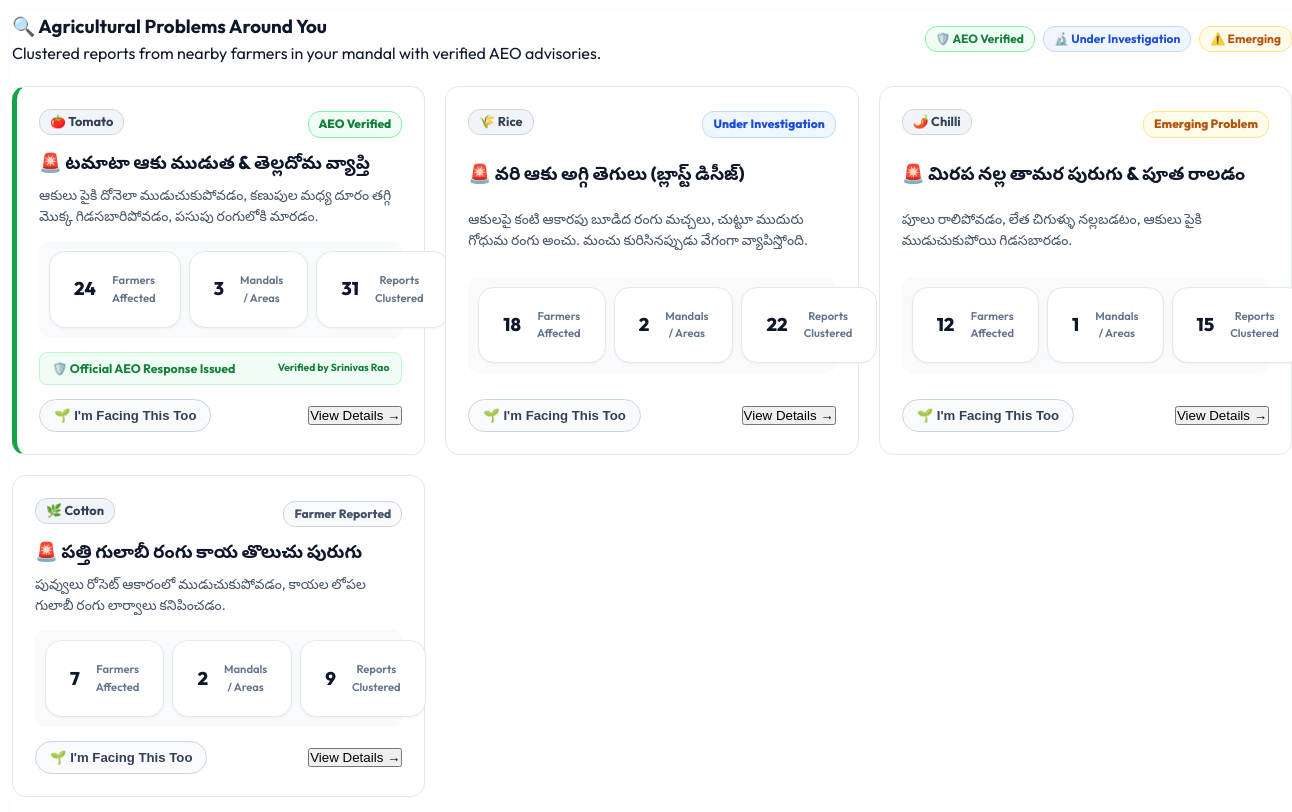
it: Community Module Master Test Suite › supports "I'm Facing This Too" and renders official AEO verified responses
This screenshot has width=1292, height=812.
Click the button with test id "facing-too-btn-prob-cluster-1".
click(125, 416)  # box [39,399,212,432]
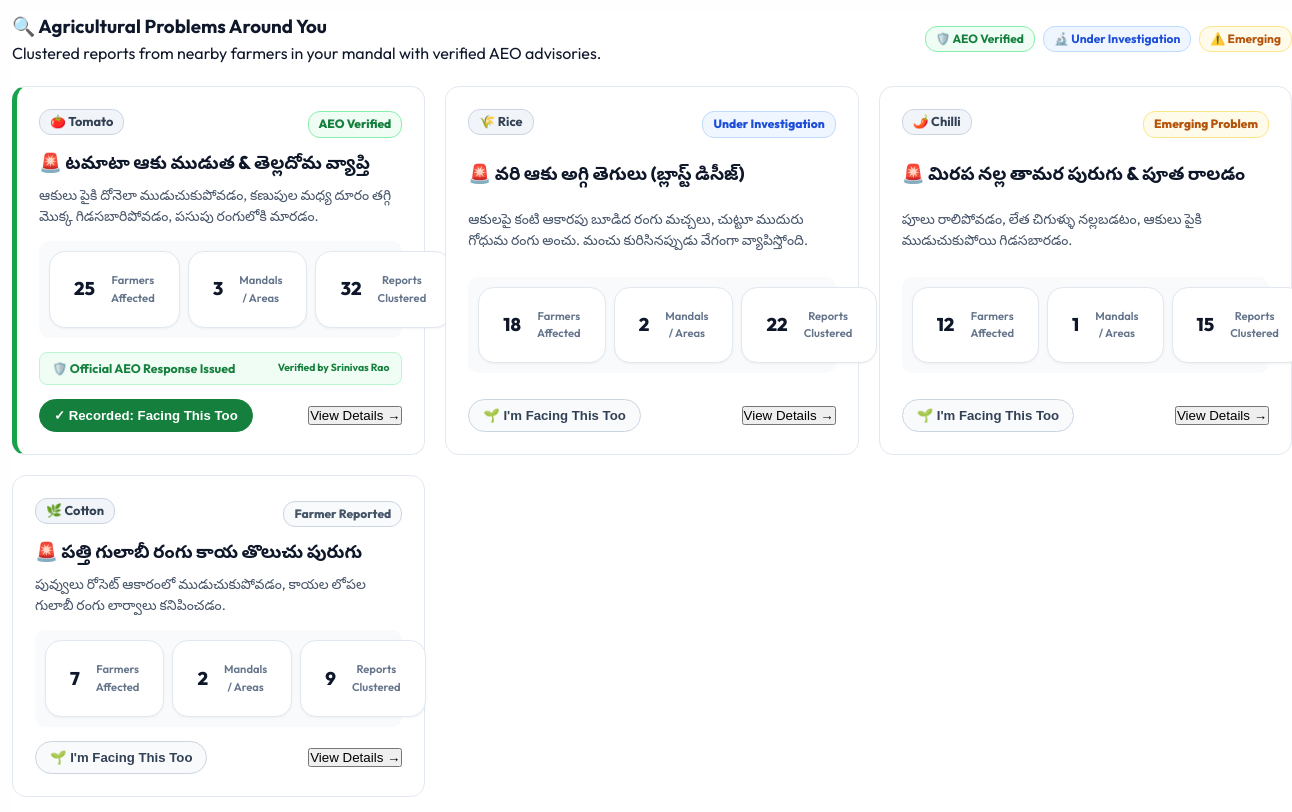
Expected: the button with test id "facing-too-btn-prob-cluster-1" has class "active", [39,399,253,432]
Click the element with test id "problem-card-prob-cluster-1".
click(219, 270)  # box [12,86,425,455]
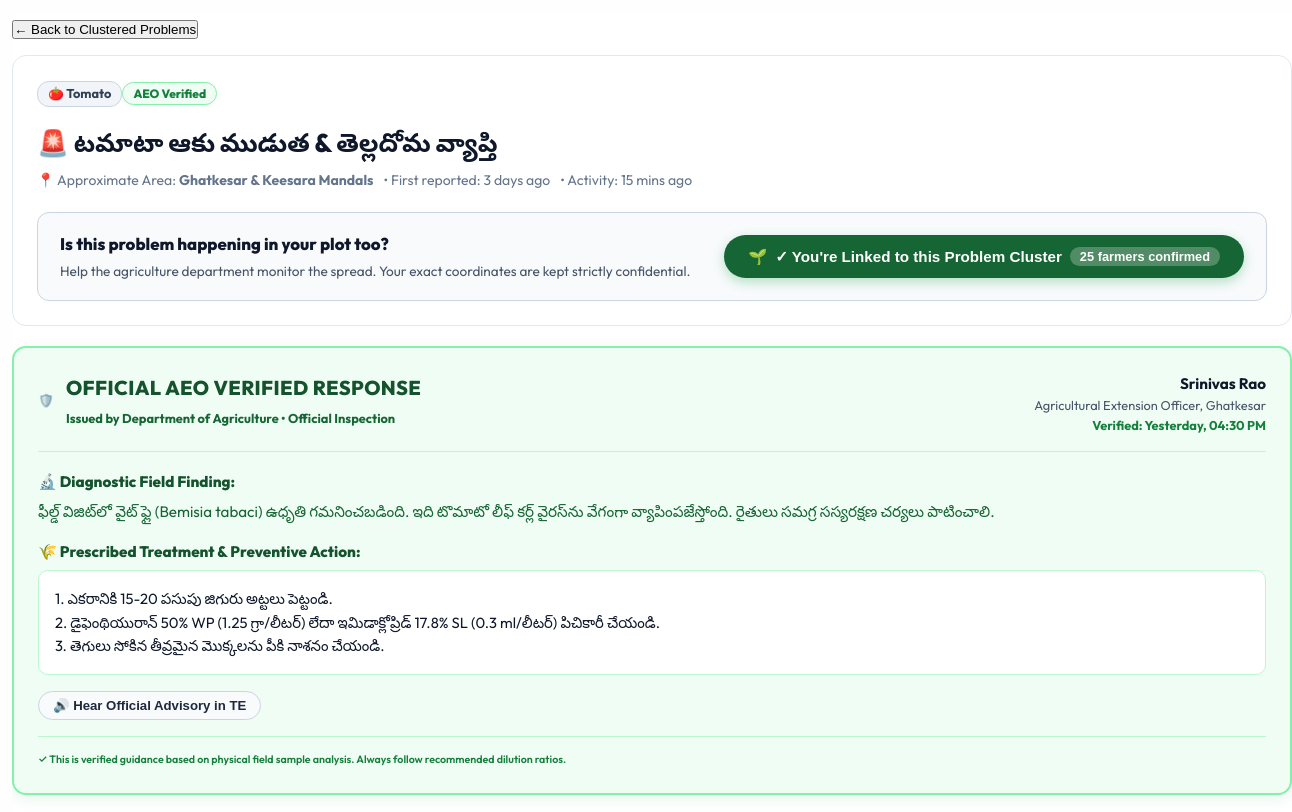
Expected: the element with test id "aeo-verified-card" is shown, [12,346,1291,795]
Expected: the heading "OFFICIAL AEO VERIFIED RESPONSE" is shown, [66,372,421,403]
